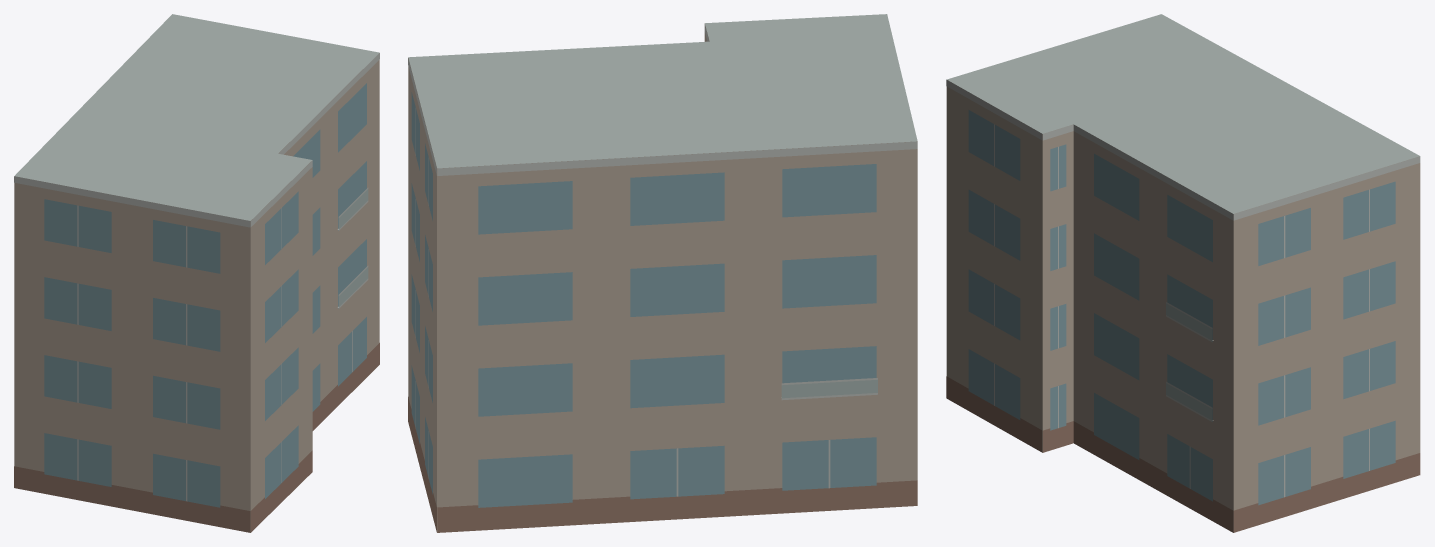
File: survey-upis-33011792.glb
3 renders of one model, left to right at view 1: azimuth 30°, elevation 25°; view 2: azimuth 150°, elevation 25°; view 3: azimuth 270°, elevation 25°, orthographic. The views are drawn at different scales.
Parts seen in each view (by area): view 1: survey-upis-33011792.tmp; view 2: survey-upis-33011792.tmp; view 3: survey-upis-33011792.tmp.
Part boxes in pixels (x1,y1,x2,y2): survey-upis-33011792.tmp: (14,14,379,532); survey-upis-33011792.tmp: (408,14,917,532); survey-upis-33011792.tmp: (946,14,1420,532).
Bounding box in the file's own units: 15.54 × 11.55 × 15.56.
